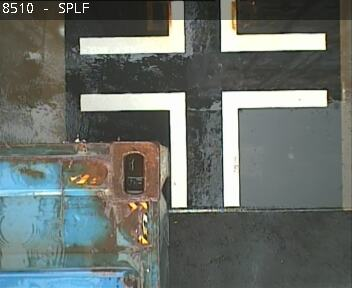groundmarker_1: (79, 89, 327, 207), (79, 1, 326, 55)
